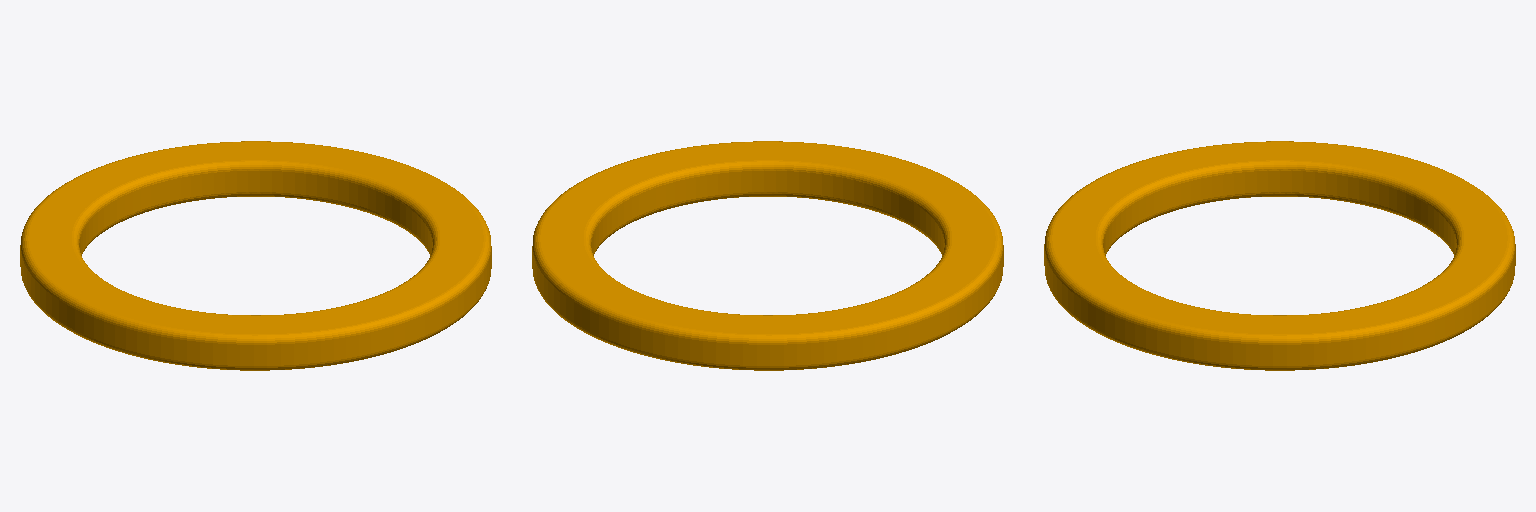
URDF robot description (benchmark_part_5):
<robot name="benchmark_part_5">
  <link name="base_link">
    <visual>
      <geometry>
        <mesh filename="benchmark_parts_stl/benchmark_part_5.stl" scale="0.001 0.001 0.001" />
      </geometry>
    <origin xyz="-0.14000000037942134 -1.5998667567529798e-12 -0.0049999999863997386" rpy="0 0 0" /></visual>
    <collision>
      <geometry>
        <mesh filename="benchmark_parts_stl/benchmark_part_5_vhacd.obj" scale="0.01 0.01 0.01" />
      </geometry>
    <origin xyz="-0.14000000037942134 -1.5998667567529798e-12 -0.0049999999863997386" rpy="0 0 0" /></collision>
    <inertial>
      <mass value="0.1" />
      <inertia ixx="0.001" ixy="0.0" ixz="0.0" iyy="0.001" iyz="0.0" izz="0.001" />
    </inertial>
  </link>
</robot>

--- Render facts (derived) ---
The picture shows the robot from 3 angles, left to right: view 1: azimuth 30°, elevation 25°; view 2: azimuth 150°, elevation 25°; view 3: azimuth 270°, elevation 25°; orthographic projection.
Robot: benchmark_part_5 — 1 links, 0 joints (none); root link base_link; default pose: all joints at 0.
Links seen in each view (by area): view 1: base_link; view 2: base_link; view 3: base_link.
Boxes of the visible links, x1,y1,x2,y2 form: base_link: [20, 141, 491, 370]; base_link: [532, 141, 1003, 370]; base_link: [1044, 141, 1515, 370].
Bounding box of the posed robot: 0.12 × 0.12 × 0.01 m (x, y, z).
Meshes: 1 distinct files referenced, 1 mesh visuals loaded (1 binary STL).